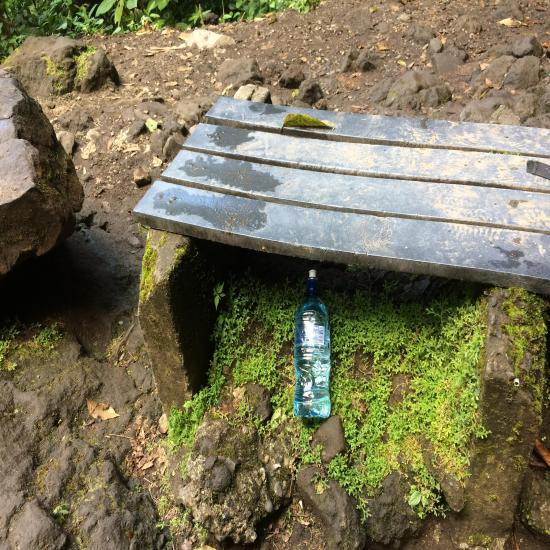Clear plastic bottle: (293, 270, 331, 418)
Plastic bottle cap: (307, 270, 319, 289)
